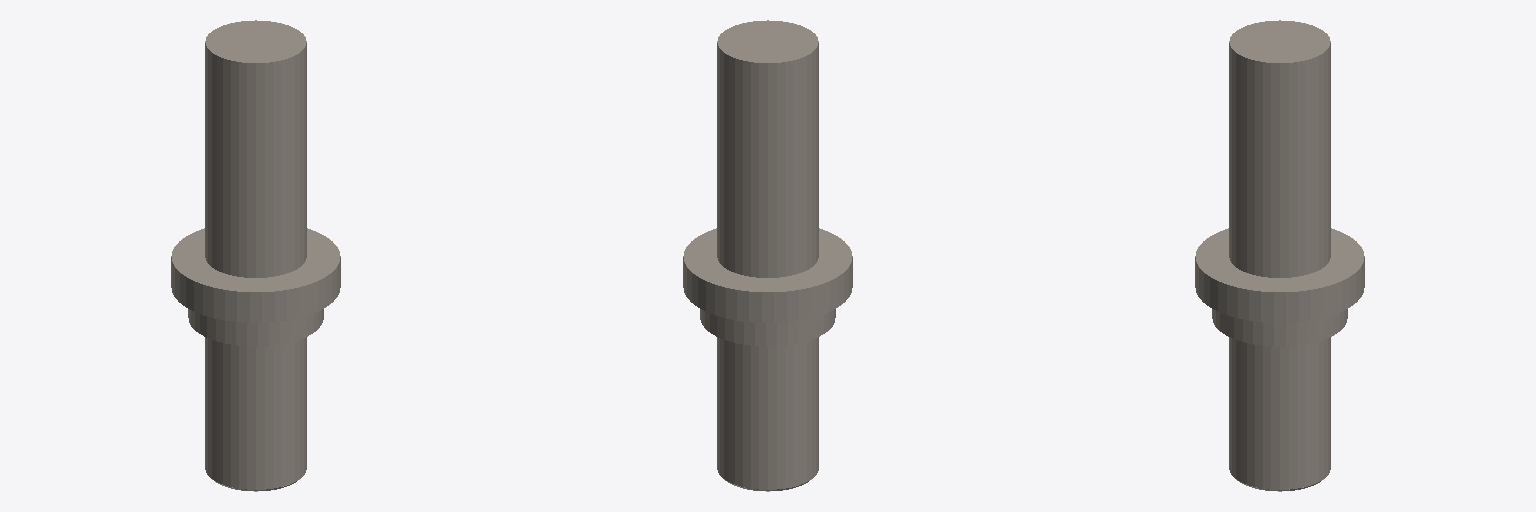
robot.urdf — peg_ft:
<robot
  name="peg_ft">
  <link
    name="peg_ft">
    <inertial>
      <origin
        xyz="-2.7718E-09 -1.10939999995788E-07 0.068783"
        rpy="0 0 0" />
      <mass
        value="0.90076" />
      <inertia
        ixx="0.00132479495101962"
        ixy="-3.08947851208025E-11"
        ixz="1.98248884668973E-10"
        iyy="0.00132478847209438"
        iyz="-4.68340786976969E-09"
        izz="0.000140005814313109" />
    </inertial>
    <visual>
      <origin
        xyz="0 0 0"
        rpy="1.5707963267949 0 0" />
      <geometry>
        <mesh
          filename="package://sawyer_gazebo_env/models/peg_ft_fine/peg_ft_fine.STL" />
      </geometry>
      <material
        name="">
        <color
          rgba="0.64706 0.61961 0.58824 1" />
      </material>
    </visual>
    <collision>
      <origin
        xyz="0 0 0.070"
        rpy="0 0 0" />
      <geometry>
        <mesh
          filename="package://sawyer_gazebo_env/models/peg_ft_coarse/high_res_cylinder.stl" />
      </geometry>
    </collision>
  </link>

  <gazebo reference="peg_ft">
      <material>Gazebo/Grey</material>
      <kp>10000</kp>
      <kd>1000</kd>
      <mu1>0.3</mu1>
      <mu2>0.3</mu2>
  </gazebo>

  <gazebo reference="peg_ft">
    <sensor name="peg_ft_contact_sensor" type="contact">
      <always_on>true</always_on>
      <update_rate>100.0</update_rate> 
      <contact>
        <collision>peg_ft_collision</collision>
      </contact>
      <plugin name="gazebo_ros_bumper_controller_2" filename="libgazebo_ros_bumper.so">
        <bumperTopicName>/peg_ft_contact_sensor_state</bumperTopicName>
        <frameName>peg_ft</frameName>
      </plugin>
    </sensor>
  </gazebo>
</robot>

--- Render facts (derived) ---
Views: 3 orthographic renders of the robot side by side, from view 1: azimuth 30°, elevation 25°; view 2: azimuth 150°, elevation 25°; view 3: azimuth 270°, elevation 25°.
Robot: peg_ft — 1 links, 0 joints (none); root link peg_ft; default pose: all joints at 0.
Links seen in each view (by area): view 1: peg_ft; view 2: peg_ft; view 3: peg_ft.
Boxes of the visible links, x1,y1,x2,y2 form: peg_ft: [171, 20, 340, 491]; peg_ft: [683, 20, 852, 491]; peg_ft: [1195, 20, 1364, 491].
Bounding box of the posed robot: 0.0499 × 0.05 × 0.14 m (x, y, z).
Meshes: 1 distinct files referenced, 1 mesh visuals loaded (1 binary STL).